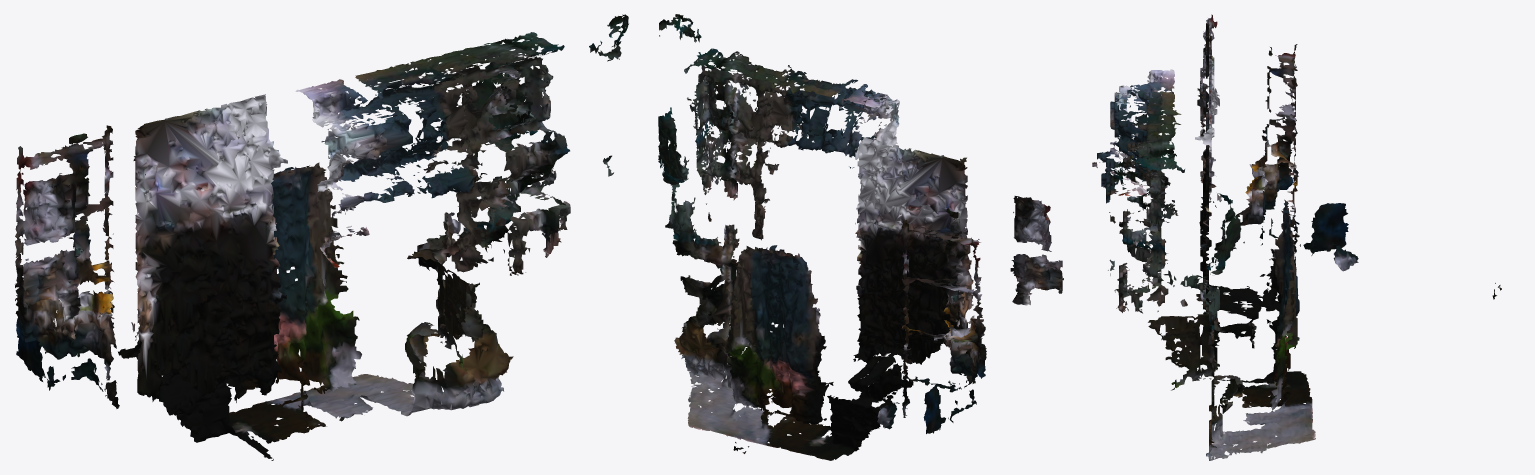
The model's file is mesh_iter_0001.obj.
3 views of the same model, side by side, from view 1: azimuth 30°, elevation 25°; view 2: azimuth 150°, elevation 25°; view 3: azimuth 270°, elevation 25° (orthographic). The views are drawn at different scales.
Size of the model in its own units: 2.99 by 2.13 by 2.47.
